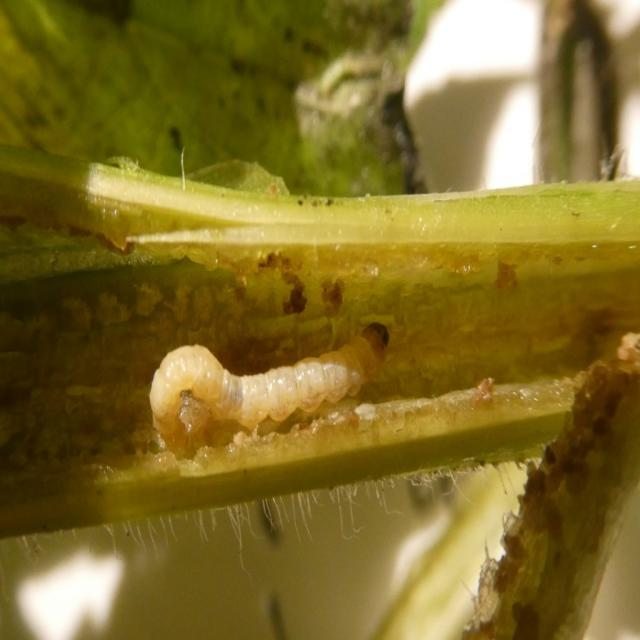cornborer-Larva-: (142, 305, 403, 484)
